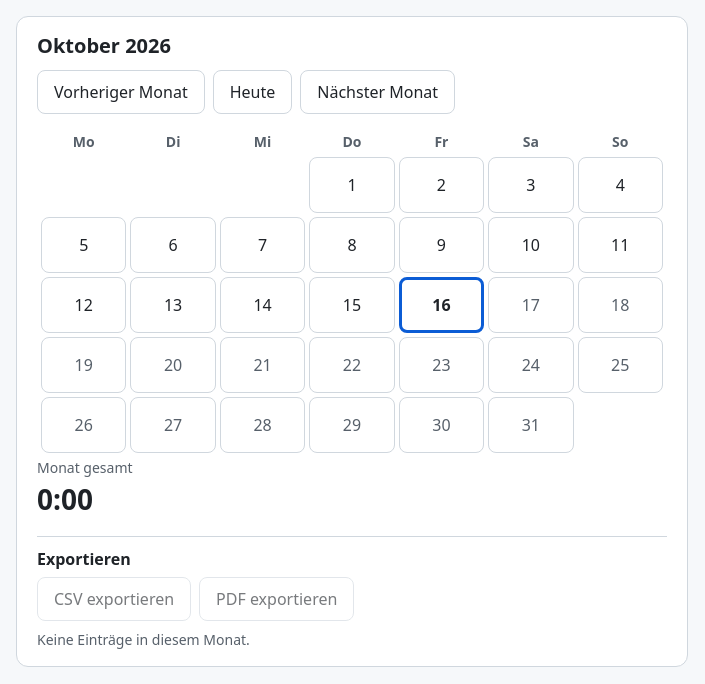
it: CalendarView export › keeps the September file name when navigating while the PDF renders
Click the button "Vorheriger Monat" at (121, 92), box [37,70,205,114]
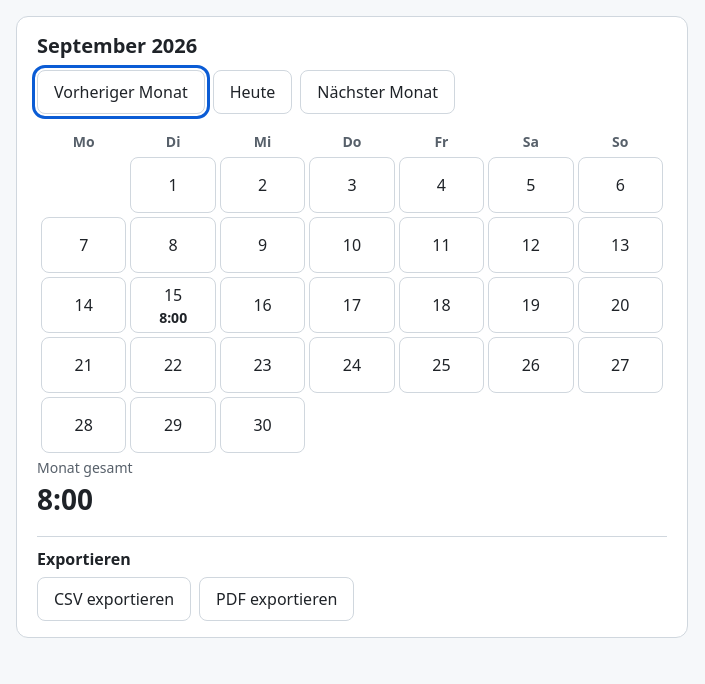
Now the heading "September 2026" is shown, box [37,32,197,59]
Now the button "CSV exportieren" is enabled, box [37,577,191,621]
Click the button "PDF exportieren" at (277, 599), box [199,577,354,621]
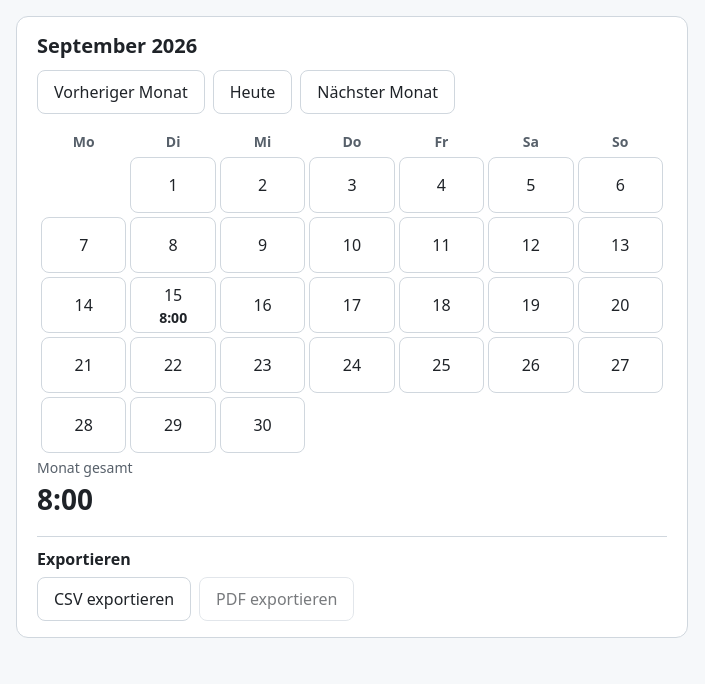
Click the button "Nächster Monat" at (378, 92), box [300,70,455,114]
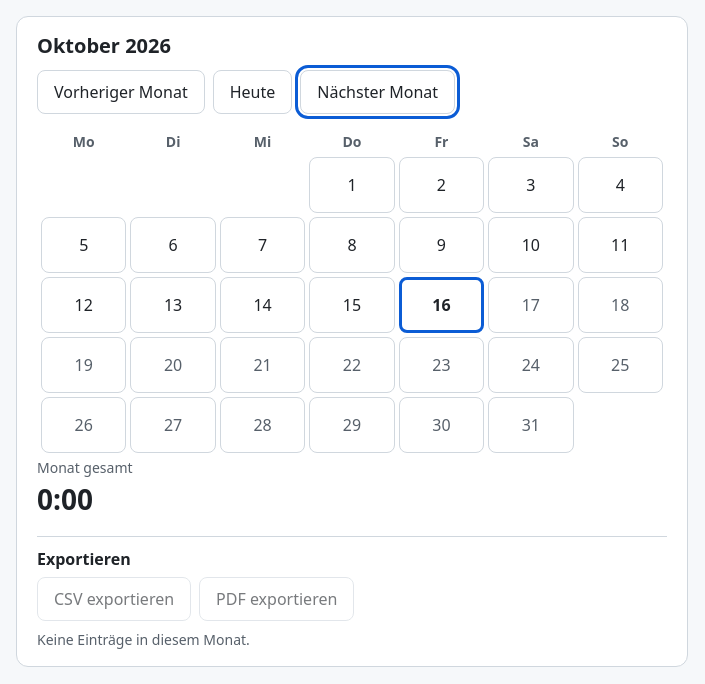
Now the heading "Oktober 2026" is shown, box [37,32,171,59]
